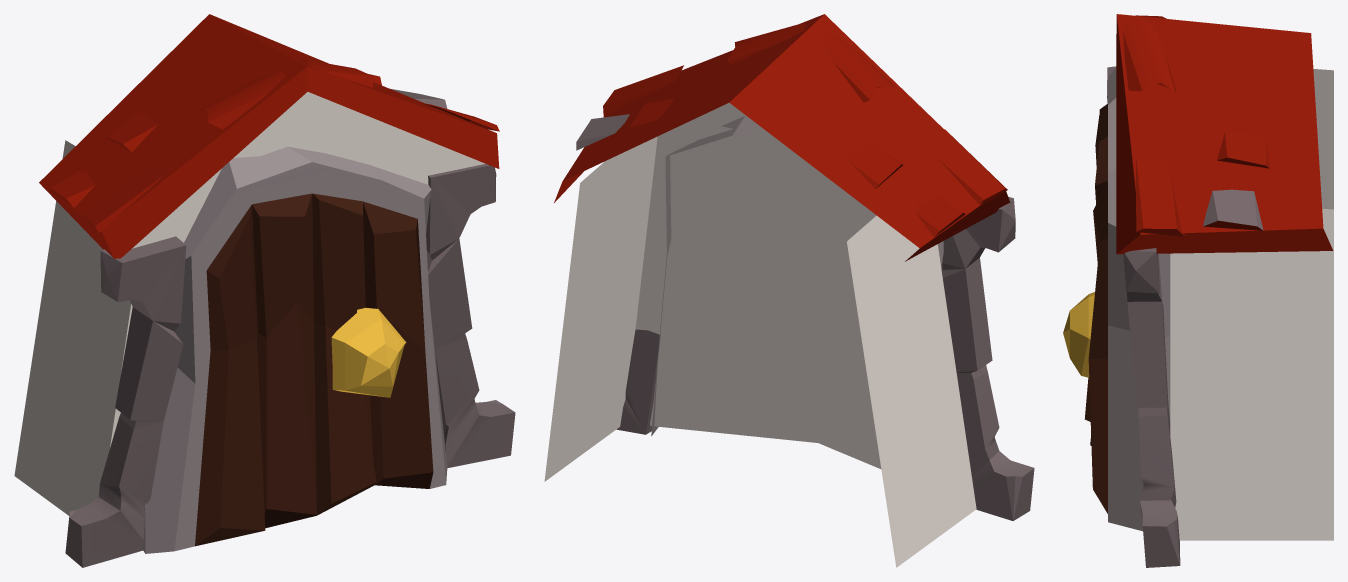
Rendered from SM_L_R_Home_Tile_Door.fbx.
The picture shows the model from 3 angles, left to right: view 1: azimuth 30°, elevation 25°; view 2: azimuth 150°, elevation 25°; view 3: azimuth 270°, elevation 25°; orthographic projection. The views are drawn at different scales.
Visible parts, largest first — view 1: SM_L_R_Home_Tile_door; view 2: SM_L_R_Home_Tile_door; view 3: SM_L_R_Home_Tile_door.
Part boxes in pixels (x1,y1,x2,y2): SM_L_R_Home_Tile_door: (14, 14, 515, 567); SM_L_R_Home_Tile_door: (544, 14, 1034, 567); SM_L_R_Home_Tile_door: (1063, 14, 1333, 567).
Size of the model in its own units: 1.52 by 1.49 by 0.814.
